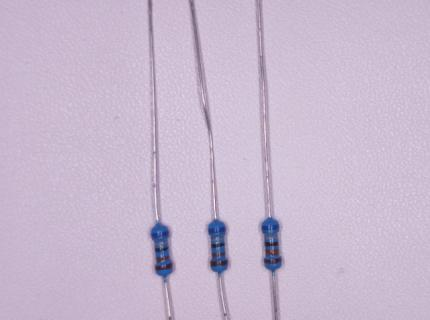Black band: (155, 247, 169, 252), (211, 243, 225, 248), (265, 242, 279, 247)
Blue band: (152, 230, 169, 237), (209, 227, 225, 233), (262, 225, 280, 230)
Brown band: (210, 259, 228, 267), (156, 262, 173, 270), (264, 257, 282, 263)
Grey band: (155, 241, 168, 246), (265, 235, 278, 240), (211, 238, 224, 241)
Orange band: (157, 255, 170, 262), (266, 250, 279, 255), (212, 253, 225, 257)
